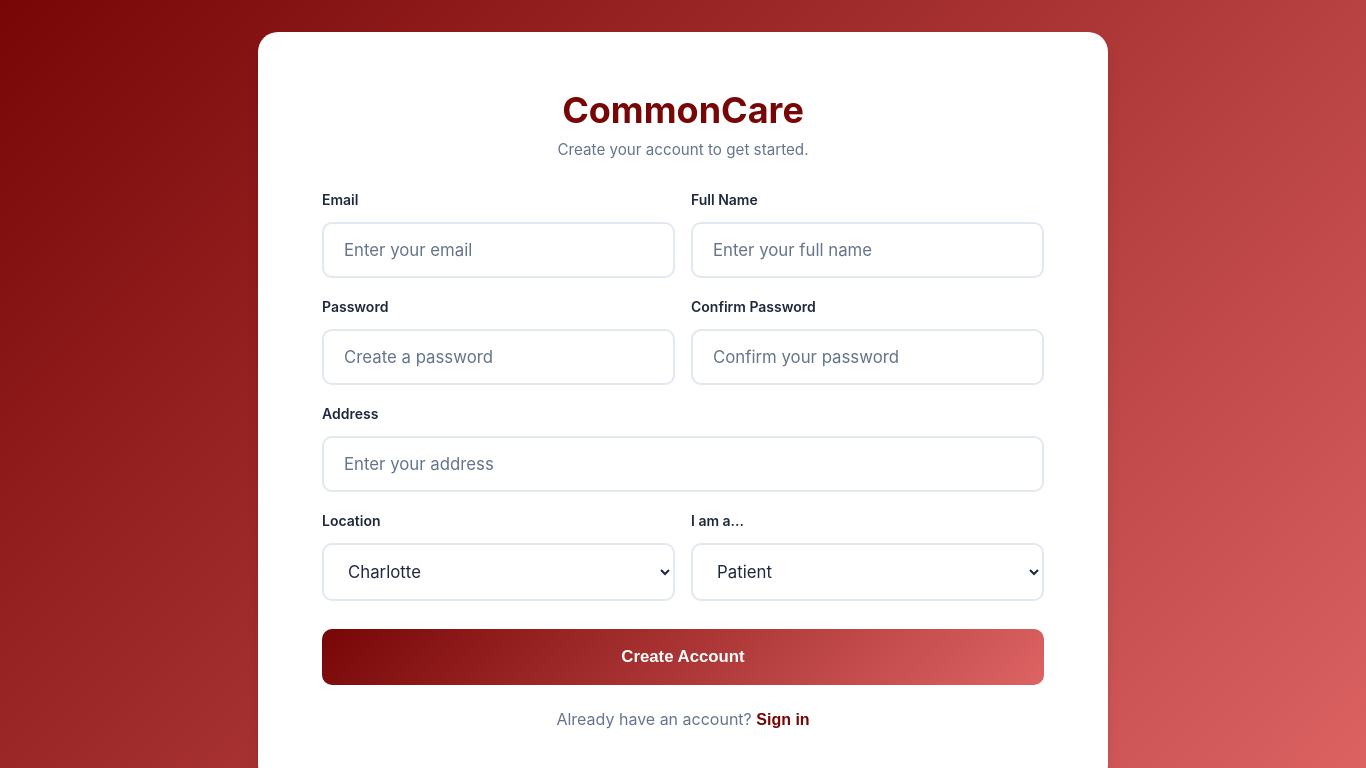
Test: Signup component › shows API error message on signup failure
Type "dup@test.com" into the field labelled "Email".
click(498, 250); type("dup@test.com")  # box x1=322 y1=222 x2=675 y2=278
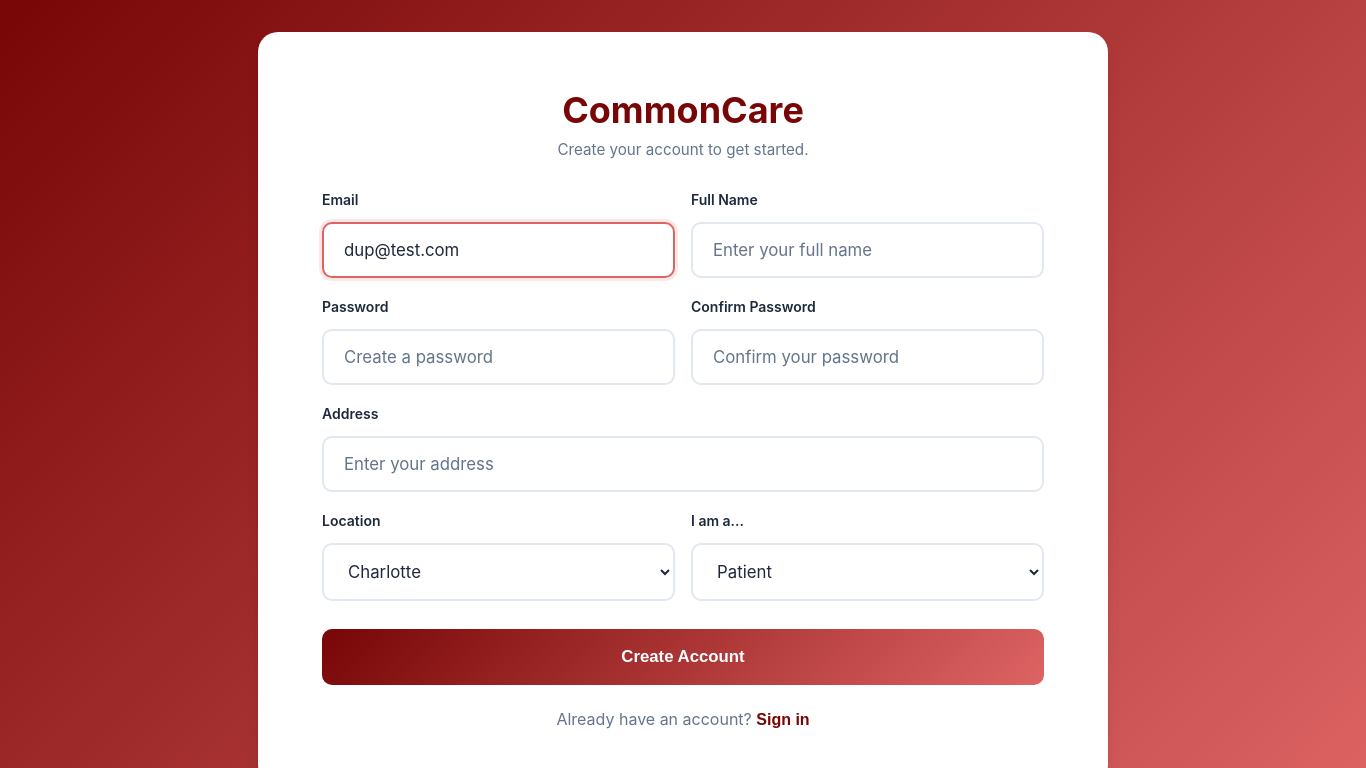
Type "Dup User" into the field labelled "Full Name".
click(868, 250); type("Dup User")  # box x1=691 y1=222 x2=1044 y2=278
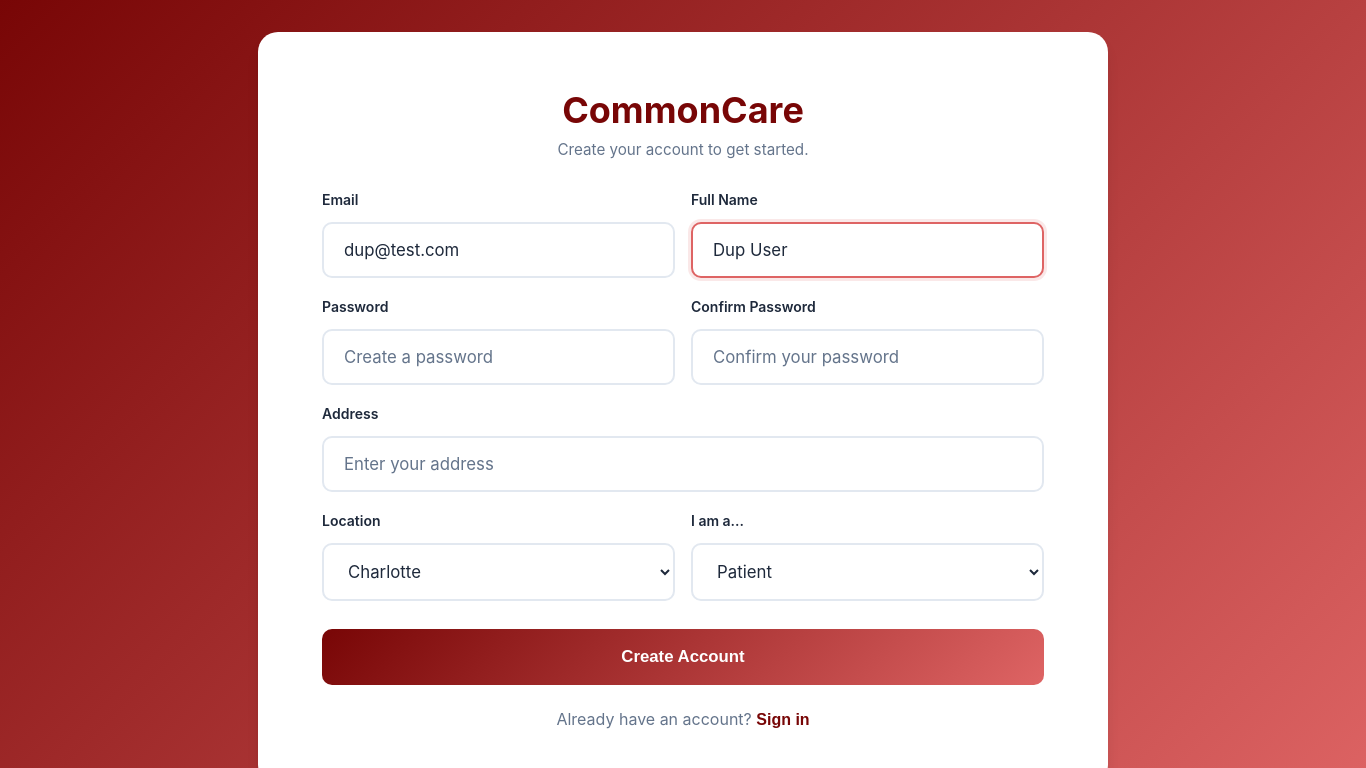
Type "pass123" into the password field labelled "Password".
click(498, 357); type("pass123")  # box x1=322 y1=329 x2=675 y2=385
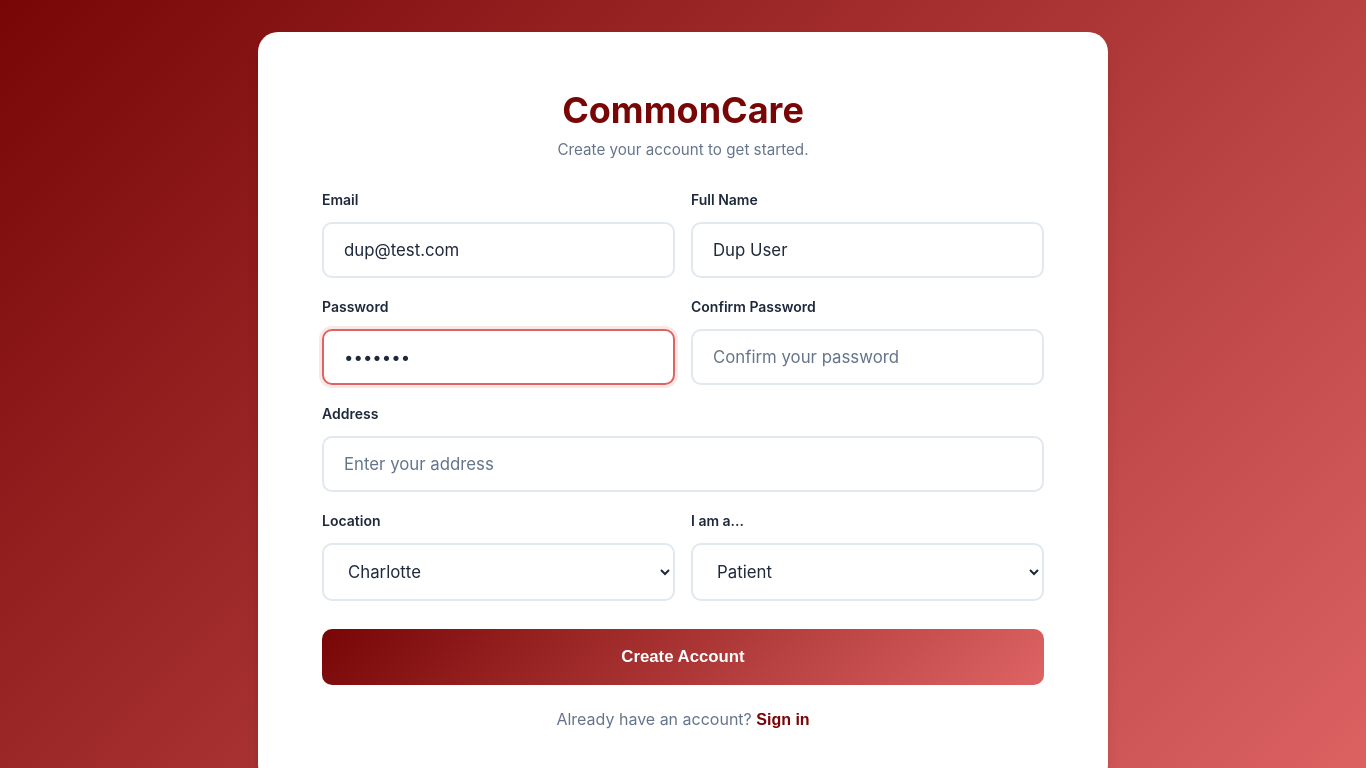
Type "pass123" into the password field labelled "Confirm Password".
click(868, 357); type("pass123")  # box x1=691 y1=329 x2=1044 y2=385
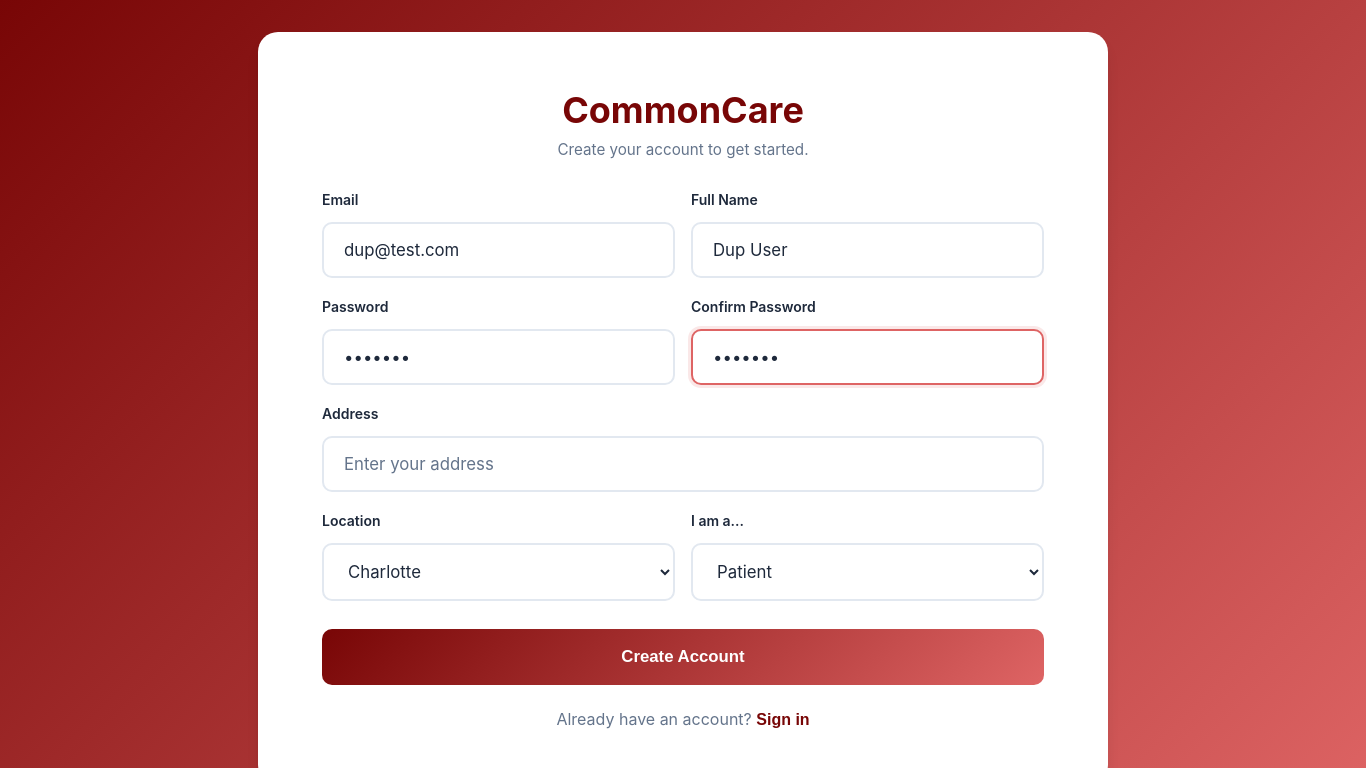
Click the button "Create Account".
click(683, 657)  # box x1=322 y1=629 x2=1044 y2=685
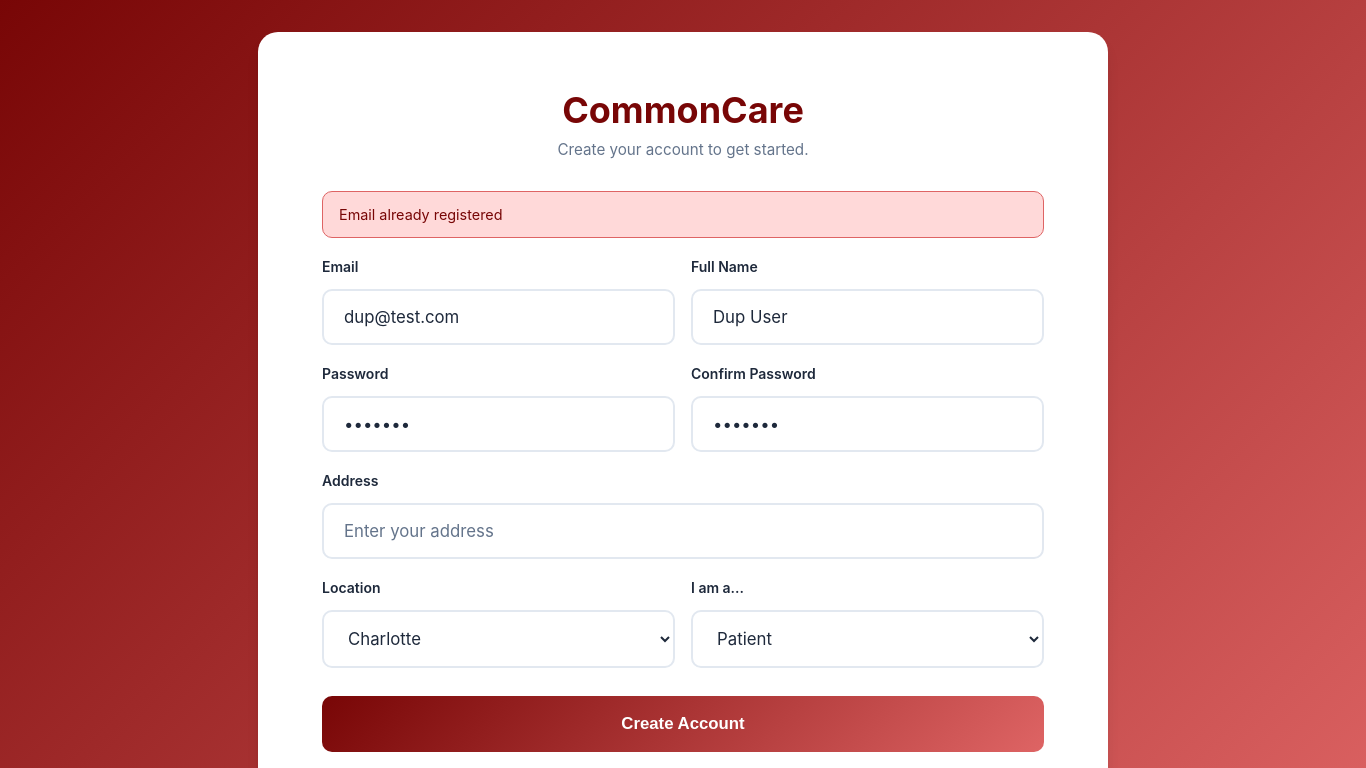
Check: the text "Email already registered" is shown, box x1=322 y1=191 x2=1044 y2=238
